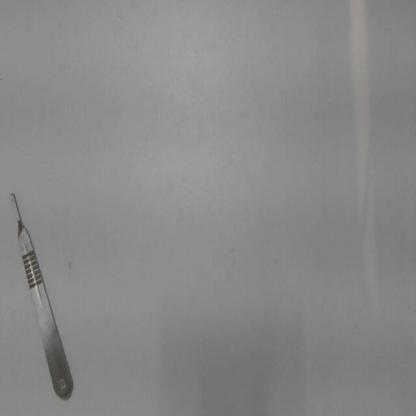No.3 BP Handle: (4, 178, 78, 406)
